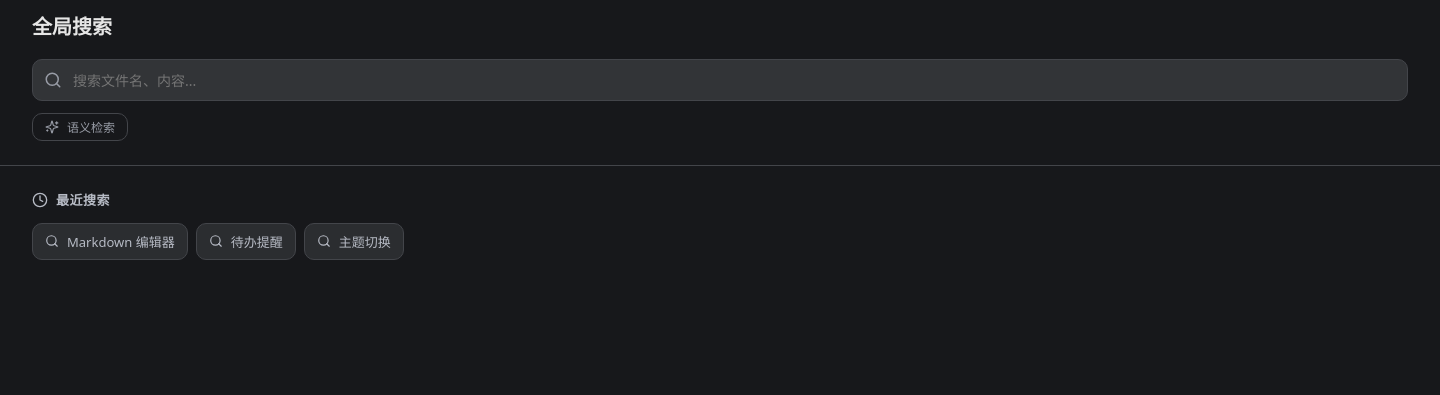
Test case: SearchView › 切回「按相关性」恢复后端给定的顺序
Type "关键词" into the field with test id "search-input". click: (720, 80)
box: [32,59,1408,101]
Wait 300 ms
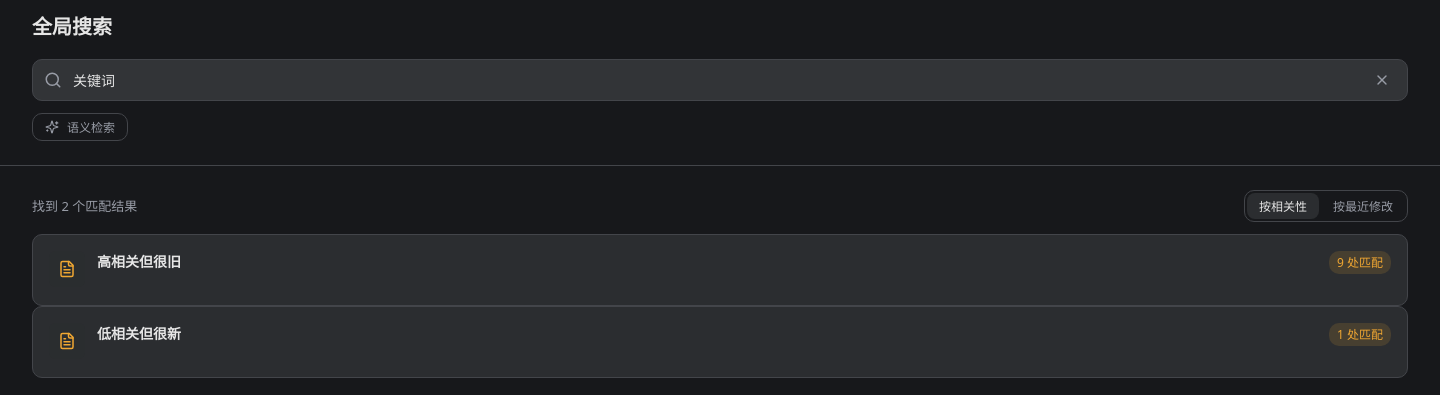
Click the button with test id "sort-recent". click: (1363, 206)
box: [1321,193,1405,219]
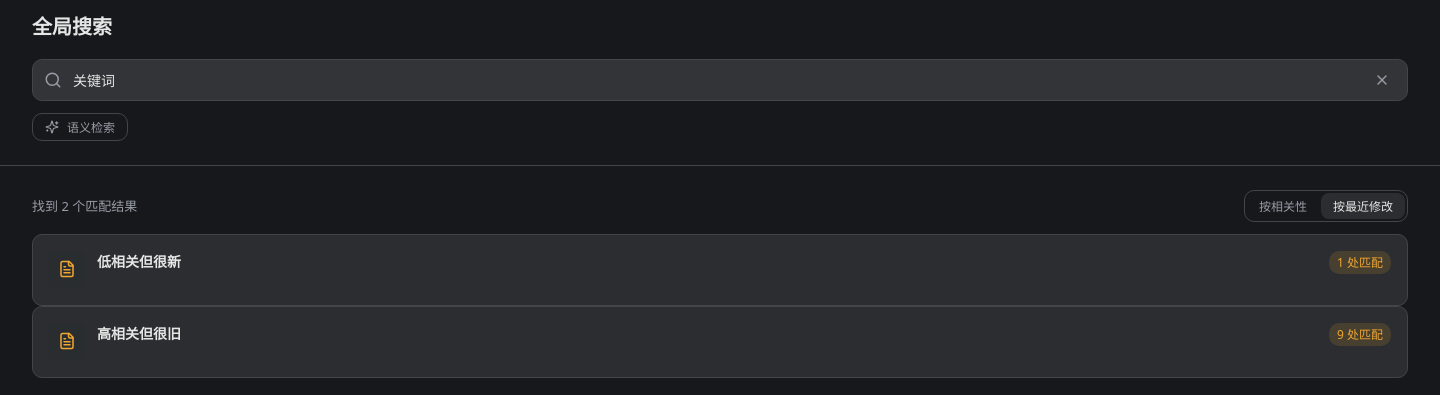
Click the button with test id "sort-relevance". click: (1283, 206)
box: [1247,193,1319,219]
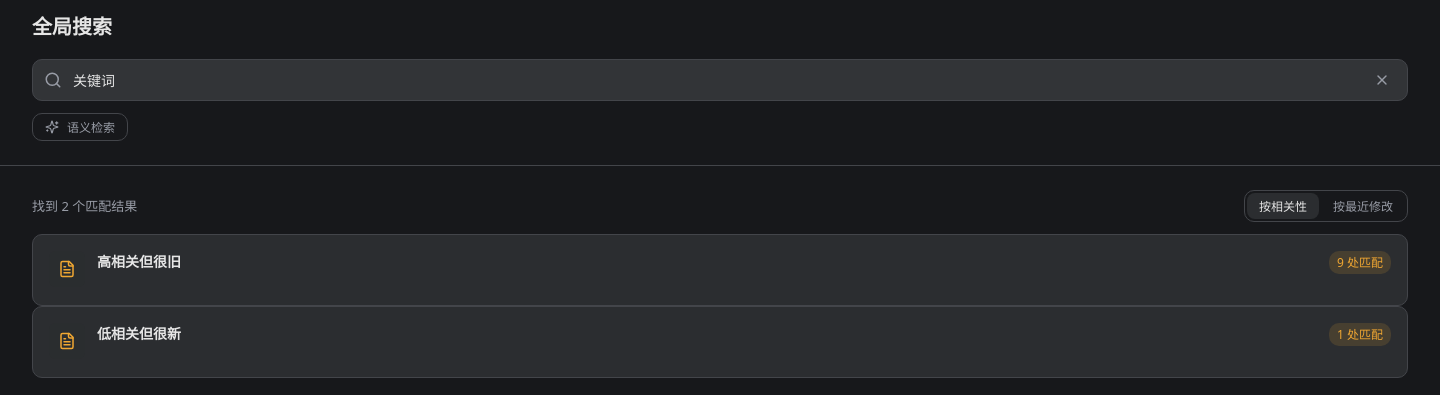
Expected: the element with test id "search-result" shows "高相关但很旧", [97,252,181,271]
